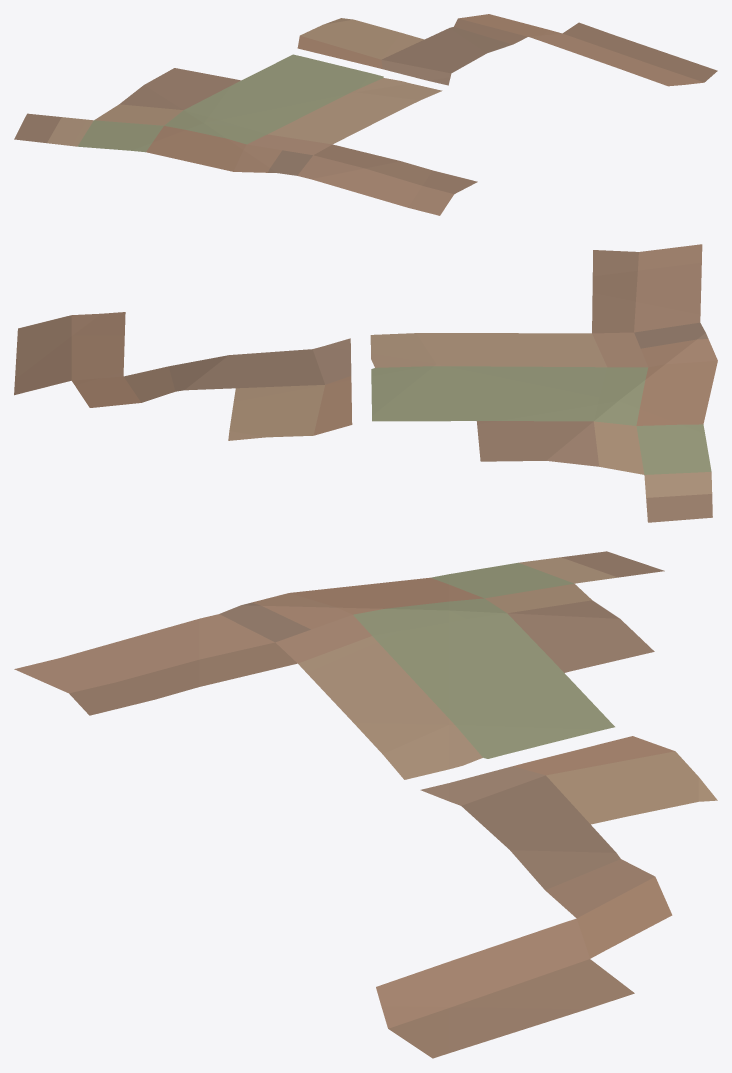
File: farm_-30_-31_soil.glb
3 renders of one model, top to bottom at view 1: azimuth 30°, elevation 25°; view 2: azimuth 150°, elevation 25°; view 3: azimuth 270°, elevation 25°, orthographic. The views are drawn at different scales.
Parts seen in each view (by area): view 1: geometry_0; view 2: geometry_0; view 3: geometry_0.
Part boxes in pixels (bbox=[...]): geometry_0: bbox=[14, 14, 717, 215]; geometry_0: bbox=[14, 244, 717, 522]; geometry_0: bbox=[14, 551, 717, 1058].
Size of the model in its own units: 338 by 35.7 by 226.
